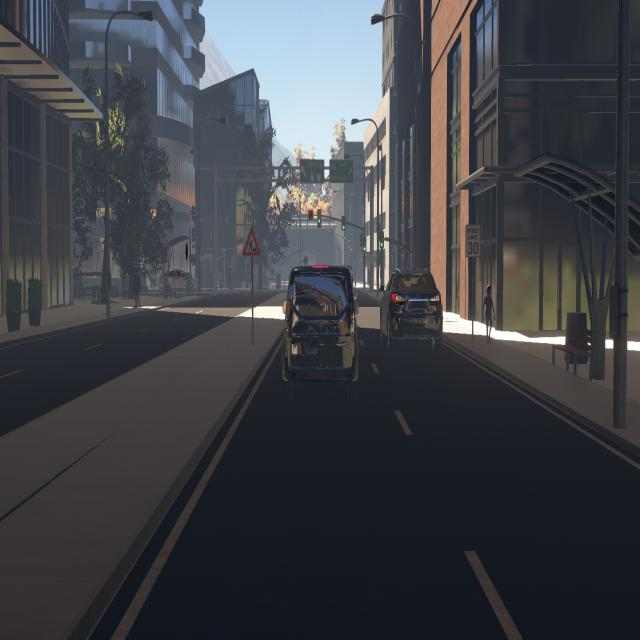speedLimit30: (466, 224, 480, 257)
